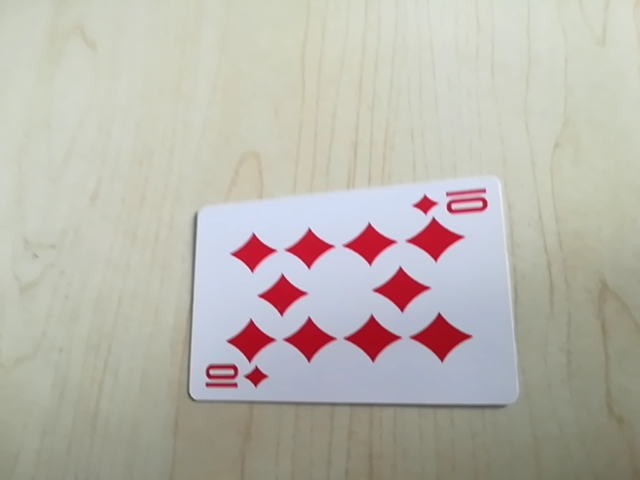fk 10: (411, 183, 496, 223), (197, 361, 269, 398)
